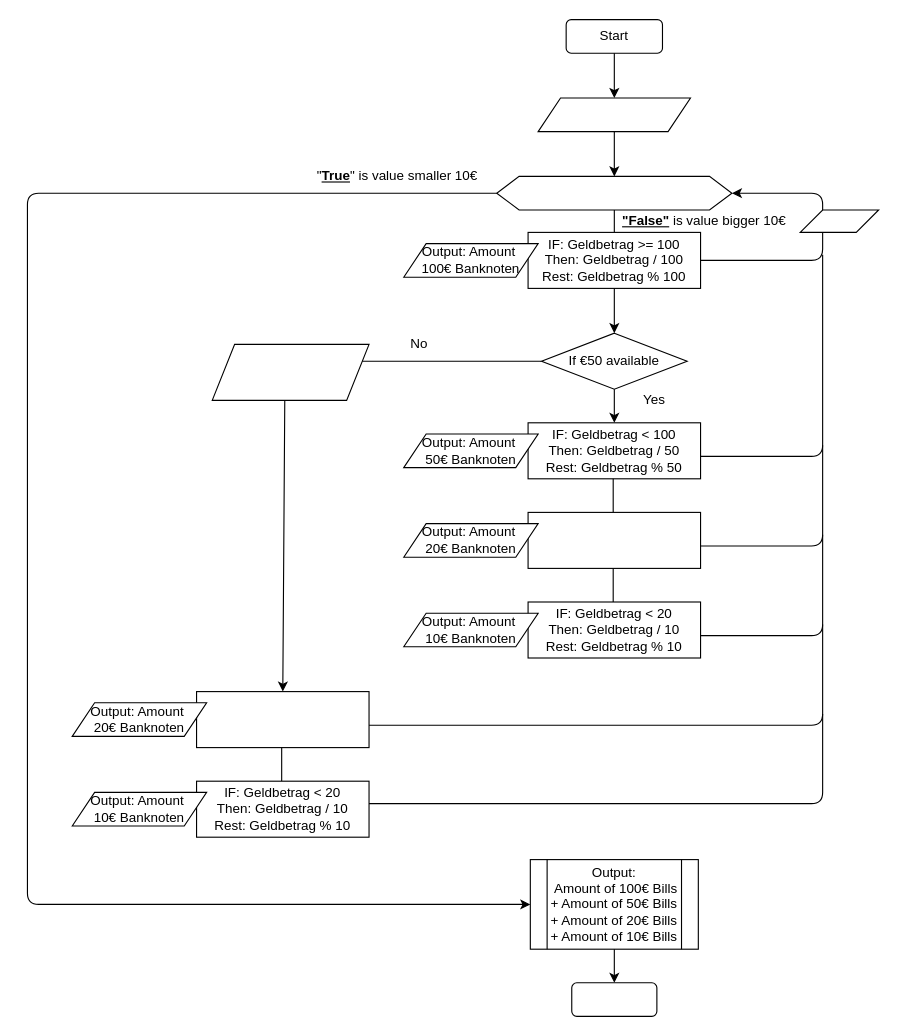
Image size: 898x1036. Some labels were removed from this diagram. The box of each missing label's shape, as (x1, y1, x2, y2) in pixels:
End: (571, 982, 657, 1016)
IF: Geldbetrag < 100 Then: Geldbetrag / 20 Rest: Geldbetrag % 20: (195, 690, 369, 748)
IF: Geldbetrag < 50 Then: Geldbetrag / 20 Rest: Geldbetrag % 20: (527, 511, 701, 568)
Input Geldbetrag: (537, 97, 690, 132)
Output: Message to Bank for refill: (211, 343, 369, 400)
Rest: (799, 209, 879, 232)
while Geldbetrag >= 10: (496, 175, 732, 210)
